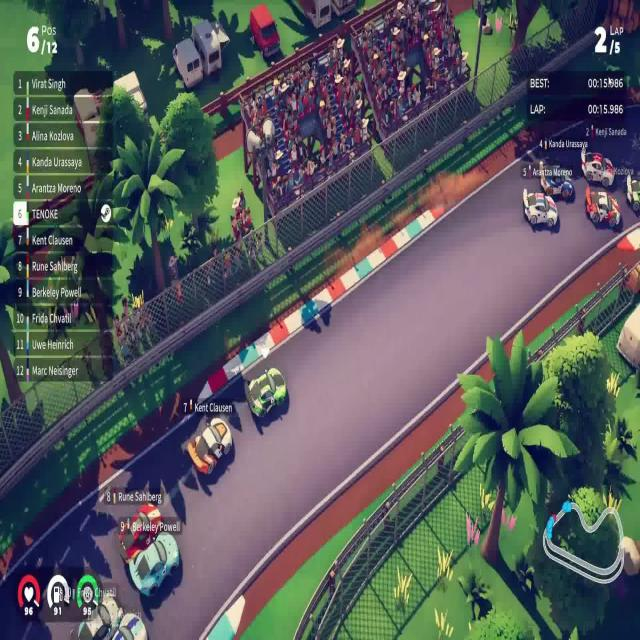car: (128, 530, 180, 598), (118, 501, 164, 564), (186, 416, 233, 476), (244, 366, 287, 420), (584, 185, 621, 229), (522, 186, 558, 229), (538, 160, 574, 202), (580, 147, 616, 188)
